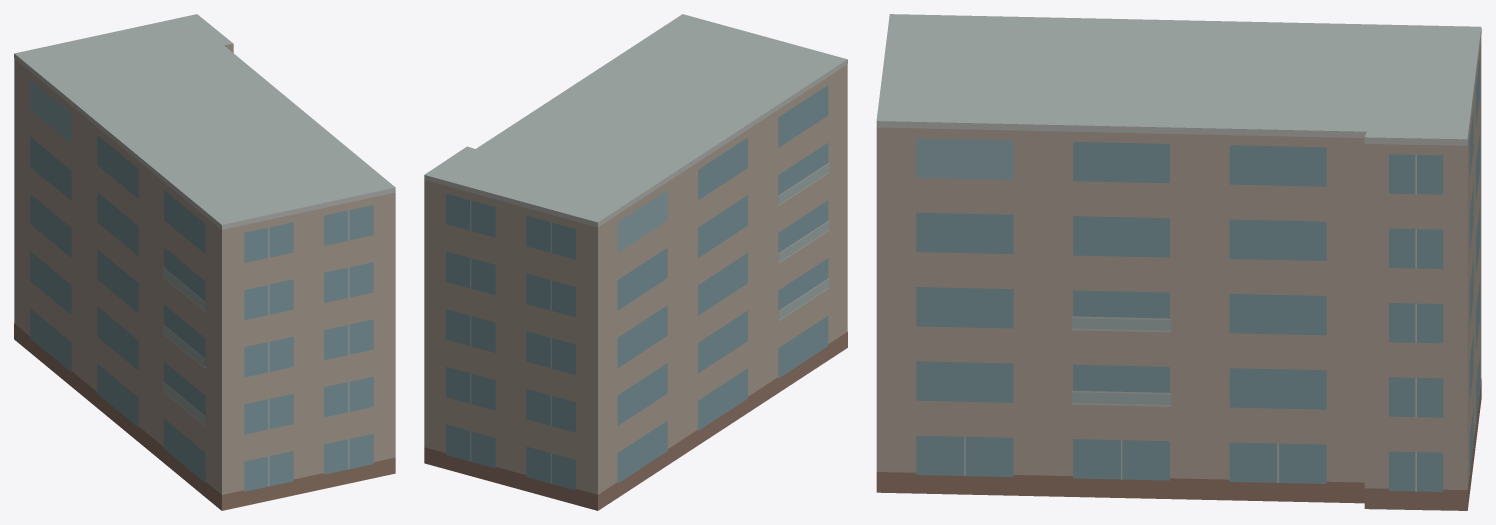
File: survey-upis-32670457.glb
3 renders of one model, left to right at view 1: azimuth 30°, elevation 25°; view 2: azimuth 150°, elevation 25°; view 3: azimuth 270°, elevation 25°, orthographic. The views are drawn at different scales.
Parts seen in each view (by area): view 1: survey-upis-32670457.tmp; view 2: survey-upis-32670457.tmp; view 3: survey-upis-32670457.tmp.
Part boxes in pixels (x1,y1,x2,y2): survey-upis-32670457.tmp: (14, 14, 395, 510); survey-upis-32670457.tmp: (424, 14, 847, 510); survey-upis-32670457.tmp: (876, 14, 1481, 510).
Size of the model in its own units: 10.21 by 14.1 by 20.82.
